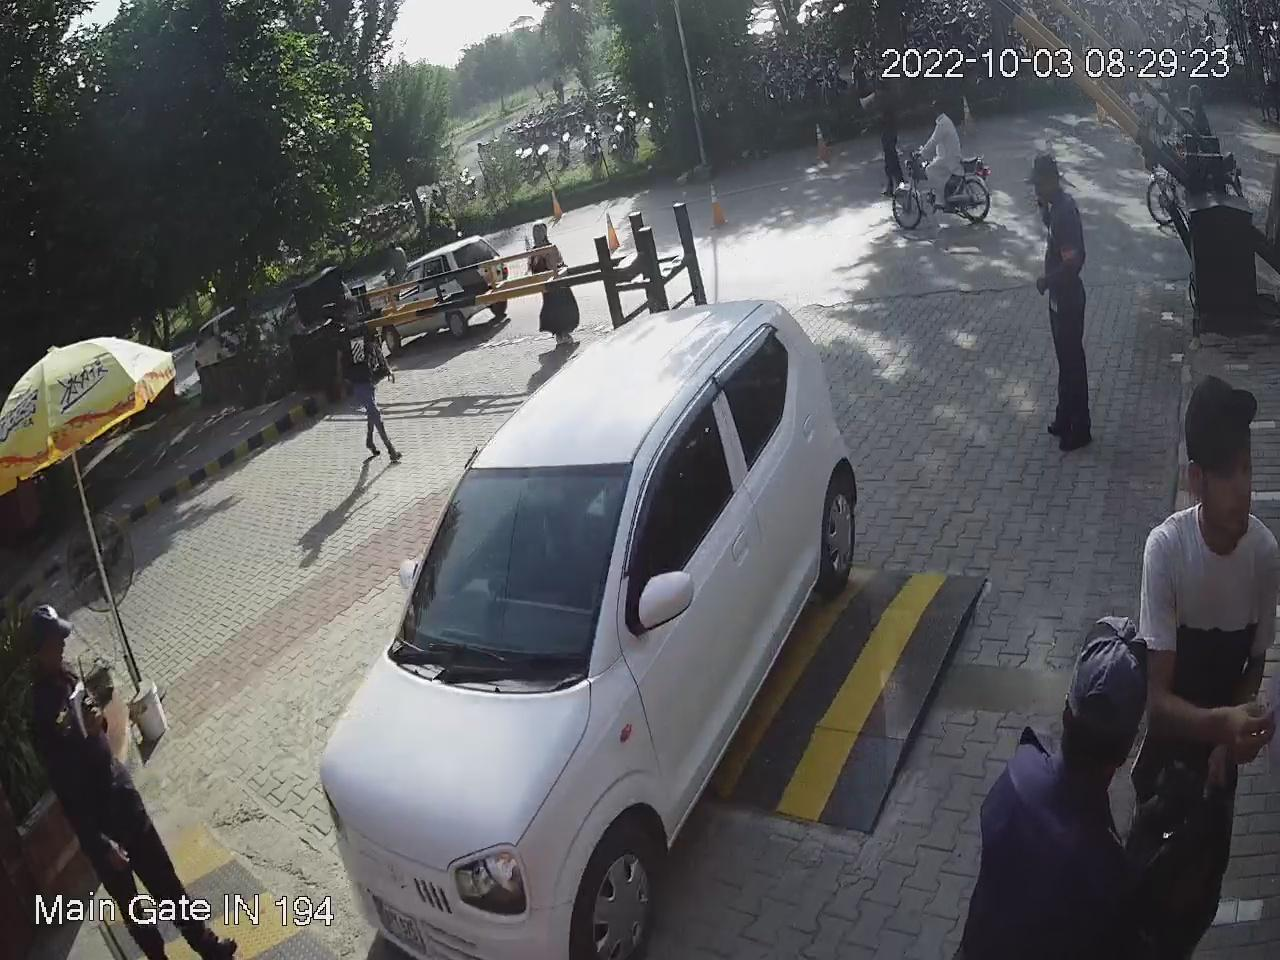windshield: (395, 458, 635, 675)
